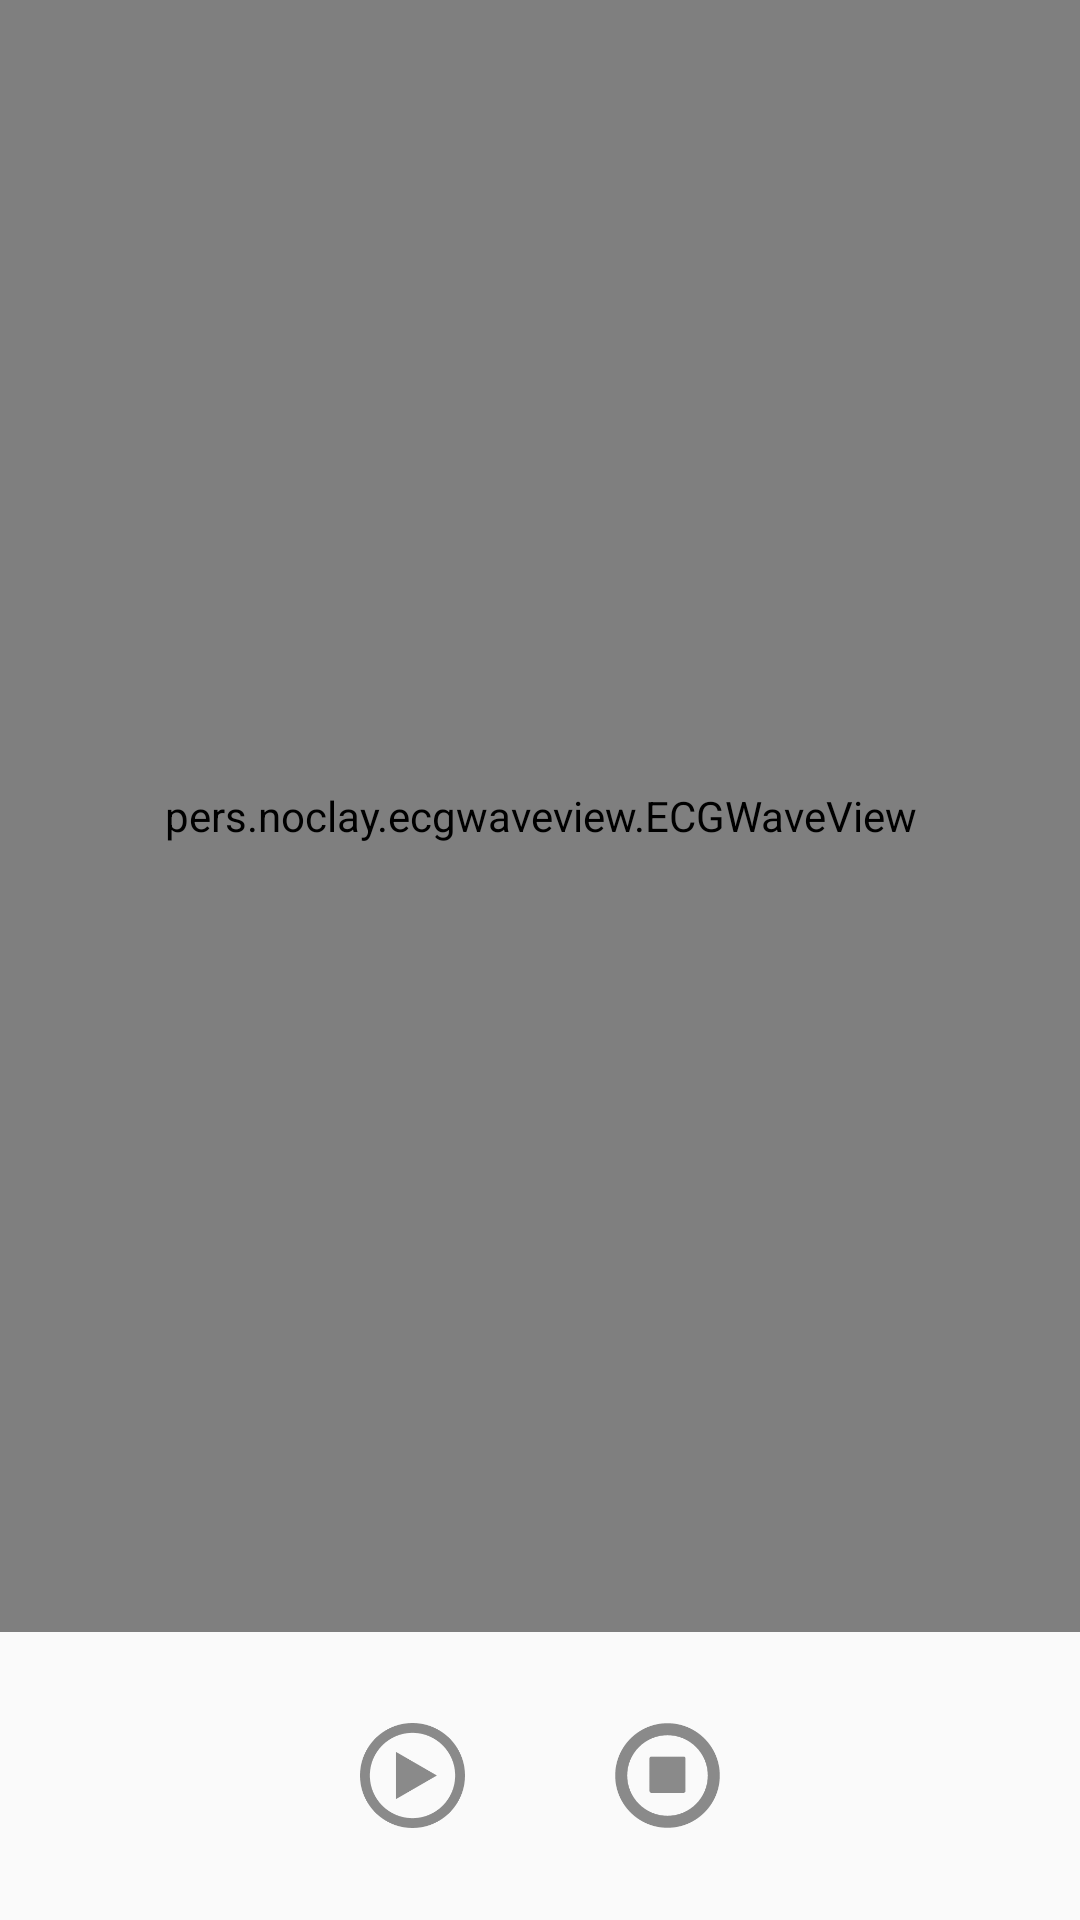

Screen size 1080×1920. Icon name, then its box in pixels as box=[x1, y1, x2, y2]:
start: box=[360, 1723, 465, 1828]
stop: box=[615, 1723, 720, 1828]
